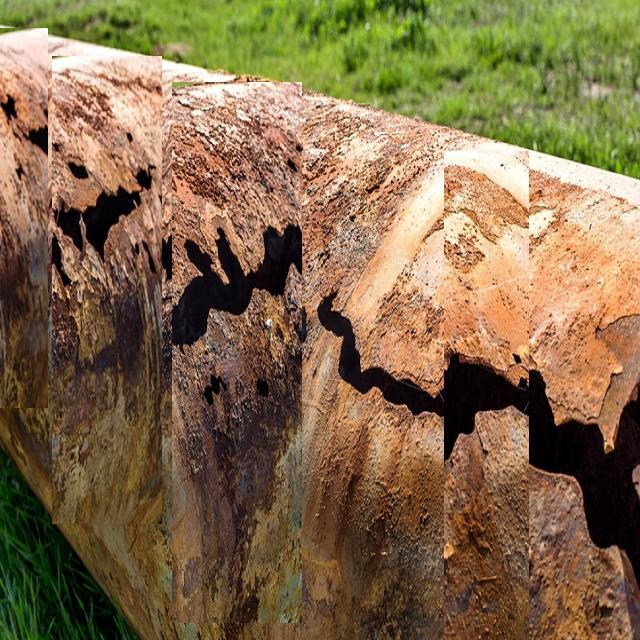Corrosion: (168, 292, 303, 532), (305, 97, 428, 260), (171, 82, 302, 210), (358, 247, 448, 396), (50, 55, 162, 165), (445, 164, 510, 272), (530, 173, 584, 248)
